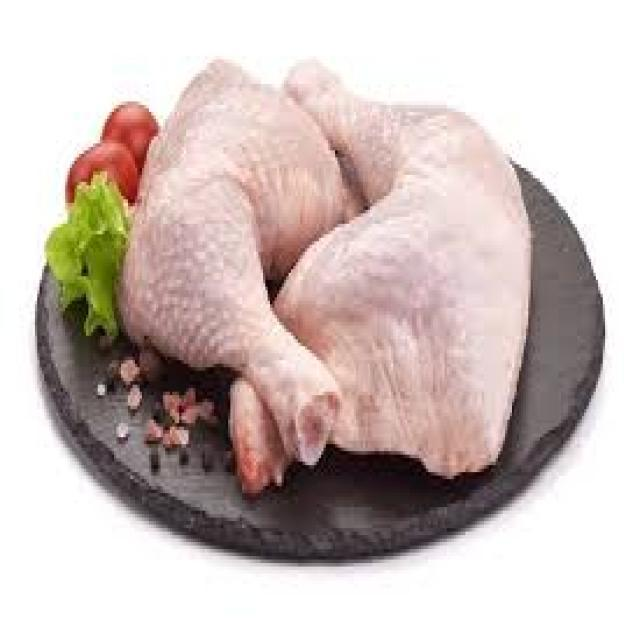quater: (278, 52, 527, 464), (131, 38, 340, 454)
